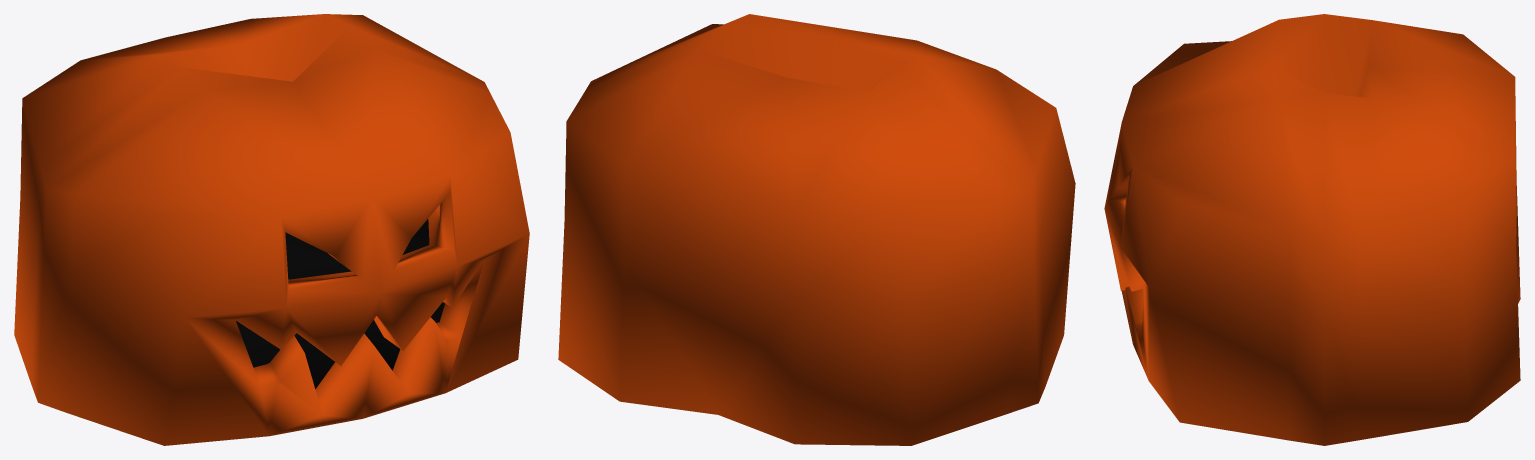
File: pumpkin.obj
3 renders of one model, left to right at view 1: azimuth 30°, elevation 25°; view 2: azimuth 150°, elevation 25°; view 3: azimuth 270°, elevation 25°, orthographic. The views are drawn at different scales.
Parts seen in each view (by area): view 1: pumpkin; view 2: pumpkin; view 3: pumpkin.
Boxes of the visible parts, x1=… form: pumpkin: x1=14, y1=14, x2=529, y2=445; pumpkin: x1=558, y1=14, x2=1075, y2=445; pumpkin: x1=1104, y1=14, x2=1520, y2=445.
Bounding box in the file's own units: 3.37 × 2.13 × 2.79.
